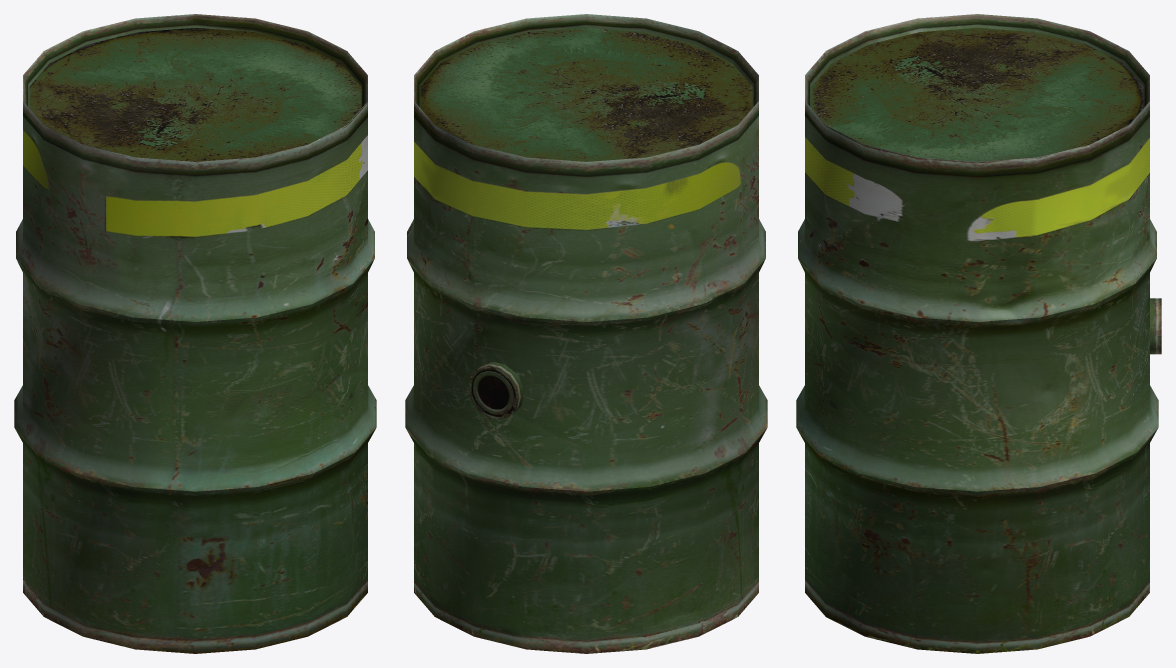
File: barrel-3.FBX
3 renders of one model, left to right at view 1: azimuth 30°, elevation 25°; view 2: azimuth 150°, elevation 25°; view 3: azimuth 270°, elevation 25°, orthographic.
Parts seen in each view (by area): view 1: barrel-3_LOD0; view 2: barrel-3_LOD0; view 3: barrel-3_LOD0.
Part boxes in pixels (x1,y1,x2,y2): barrel-3_LOD0: (14,14,376,653); barrel-3_LOD0: (405,14,767,653); barrel-3_LOD0: (796,14,1161,653).
Size of what is drawn, in the model's own units: 31.11 by 45.89 by 30.9.
